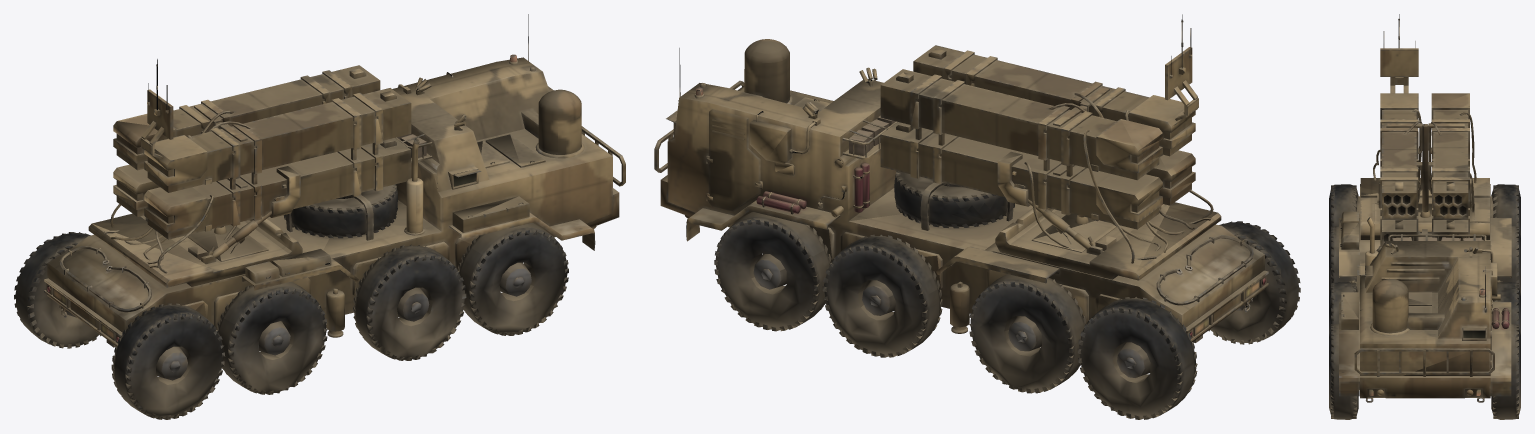
Rendered from fh_battle_e_sam.glb.
3 views of the same model, side by side, from view 1: azimuth 30°, elevation 25°; view 2: azimuth 150°, elevation 25°; view 3: azimuth 270°, elevation 25° (orthographic). The views are drawn at different scales.
Visible parts, largest first — view 1: sam, launcher_pitch, wheel_2r, wheel_f2r, wheel_1r, wheel_fr, launcher_yaw, wheel_2l; view 2: sam, launcher_pitch, wheel_f2l, wheel_2l, wheel_1l, wheel_fl, launcher_yaw, wheel_2r; view 3: sam, launcher_pitch, launcher_yaw, wheel_fr, wheel_fl, wheel_2l, wheel_2r, wheel_f2l, wheel_1r, wheel_1l, wheel_f2r.
Part boxes in pixels (x1=…): sam: x1=44, y1=14, x2=625, y2=347; launcher_pitch: x1=103, y1=59, x2=411, y2=273; wheel_2r: x1=111, y1=303, x2=225, y2=419; wheel_f2r: x1=352, y1=244, x2=466, y2=360; wheel_1r: x1=217, y1=282, x2=327, y2=394; wheel_fr: x1=458, y1=223, x2=568, y2=335; launcher_yaw: x1=88, y1=213, x2=302, y2=287; wheel_2l: x1=14, y1=232, x2=101, y2=348; sam: x1=654, y1=39, x2=1268, y2=343; launcher_pitch: x1=880, y1=14, x2=1213, y2=263; wheel_f2l: x1=822, y1=234, x2=942, y2=357; wheel_2l: x1=1077, y1=297, x2=1197, y2=419; wheel_1l: x1=969, y1=274, x2=1086, y2=393; wheel_fl: x1=714, y1=212, x2=831, y2=331; launcher_yaw: x1=995, y1=202, x2=1221, y2=280; wheel_2r: x1=1208, y1=221, x2=1300, y2=344; sam: x1=1339, y1=184, x2=1511, y2=402; launcher_pitch: x1=1373, y1=14, x2=1476, y2=246; launcher_yaw: x1=1360, y1=178, x2=1489, y2=239; wheel_fr: x1=1329, y1=324, x2=1359, y2=419; wheel_fl: x1=1491, y1=324, x2=1520, y2=419; wheel_2l: x1=1491, y1=184, x2=1520, y2=237; wheel_2r: x1=1329, y1=184, x2=1358, y2=239; wheel_f2l: x1=1493, y1=282, x2=1520, y2=334; wheel_1r: x1=1329, y1=226, x2=1356, y2=295; wheel_1l: x1=1497, y1=226, x2=1520, y2=295; wheel_f2r: x1=1329, y1=282, x2=1357, y2=336.
Bounding box in the file's own units: 0.9995 × 0.6047 × 0.3882.
1 material, 1 textured.
